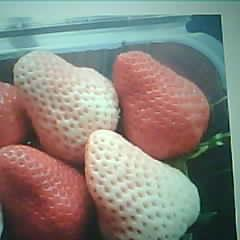straw-ripe: (115, 53, 210, 159), (1, 142, 89, 240)
straw-unripe: (85, 130, 200, 240), (14, 50, 120, 162)
